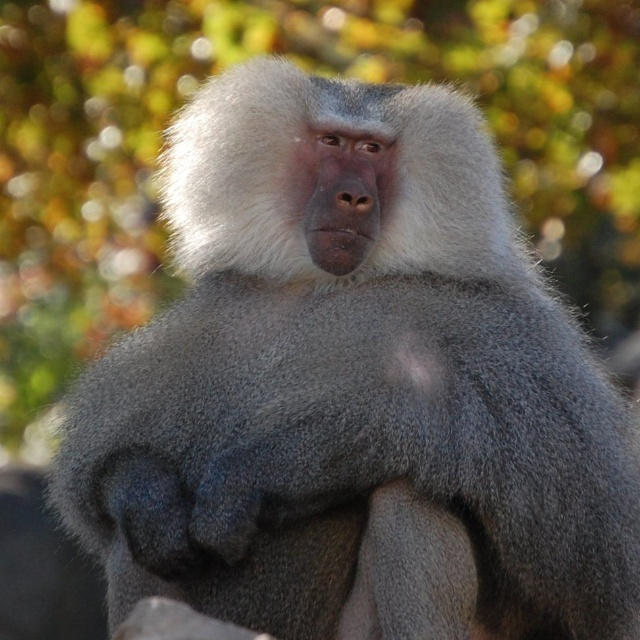Monkey: (20, 47, 640, 640)
